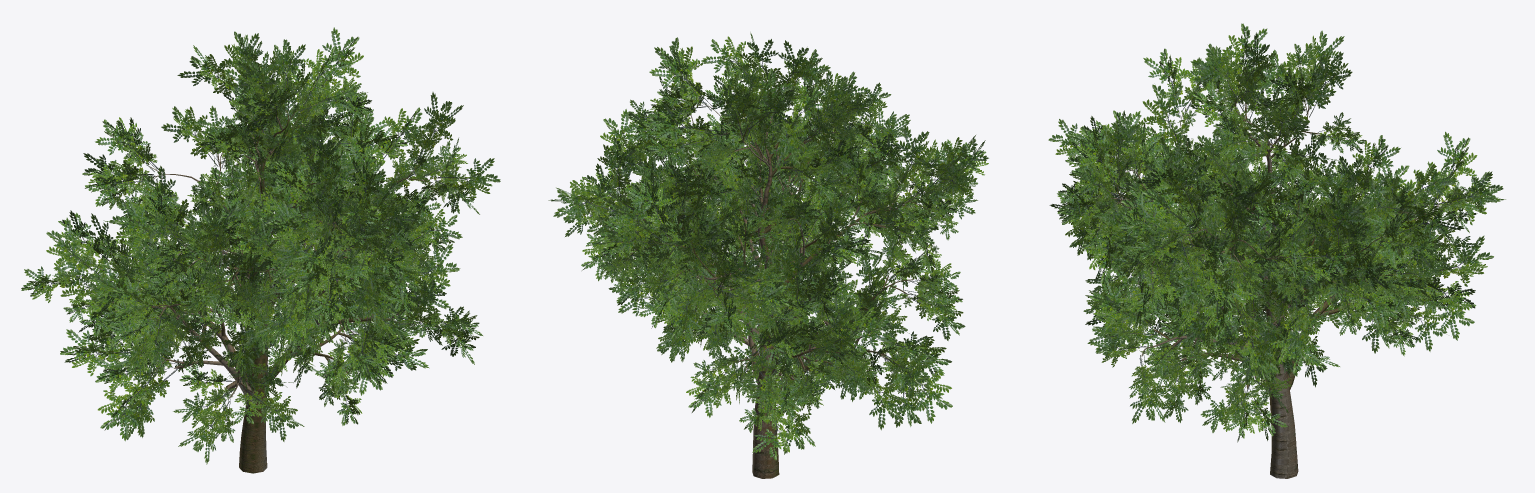
File: Tree4.fbx
The picture shows the model from 3 angles, left to right: view 1: azimuth 30°, elevation 25°; view 2: azimuth 150°, elevation 25°; view 3: azimuth 270°, elevation 25°; orthographic projection. The views are drawn at different scales.
Visible parts, largest first — view 1: Tree4; view 2: Tree4; view 3: Tree4.
Boxes of the visible parts, bbox=[...] form: Tree4: bbox=[21, 27, 500, 473]; Tree4: bbox=[548, 32, 988, 478]; Tree4: bbox=[1048, 23, 1505, 478].
Size of the model in its own units: 733 by 774 by 747.
Materials: 2 (2 with a texture image).
